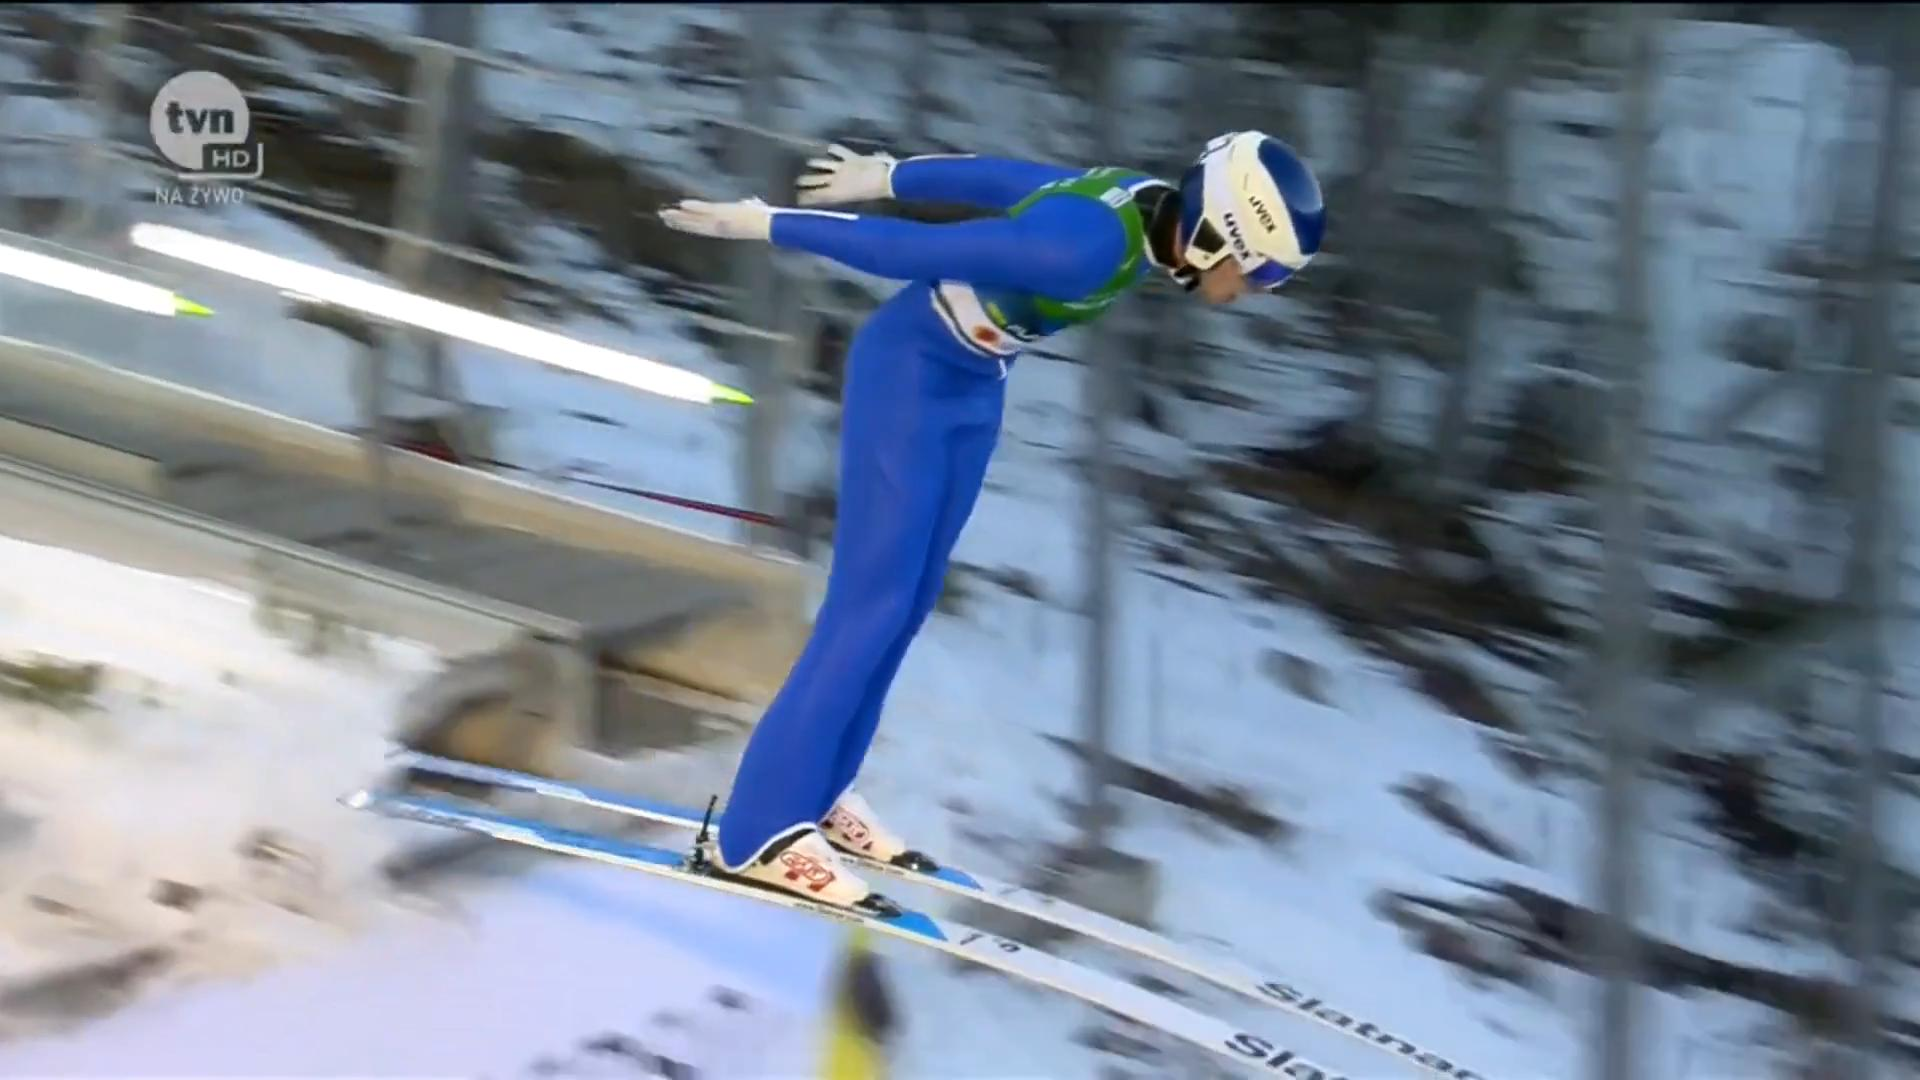prog: (400, 582, 748, 741)
